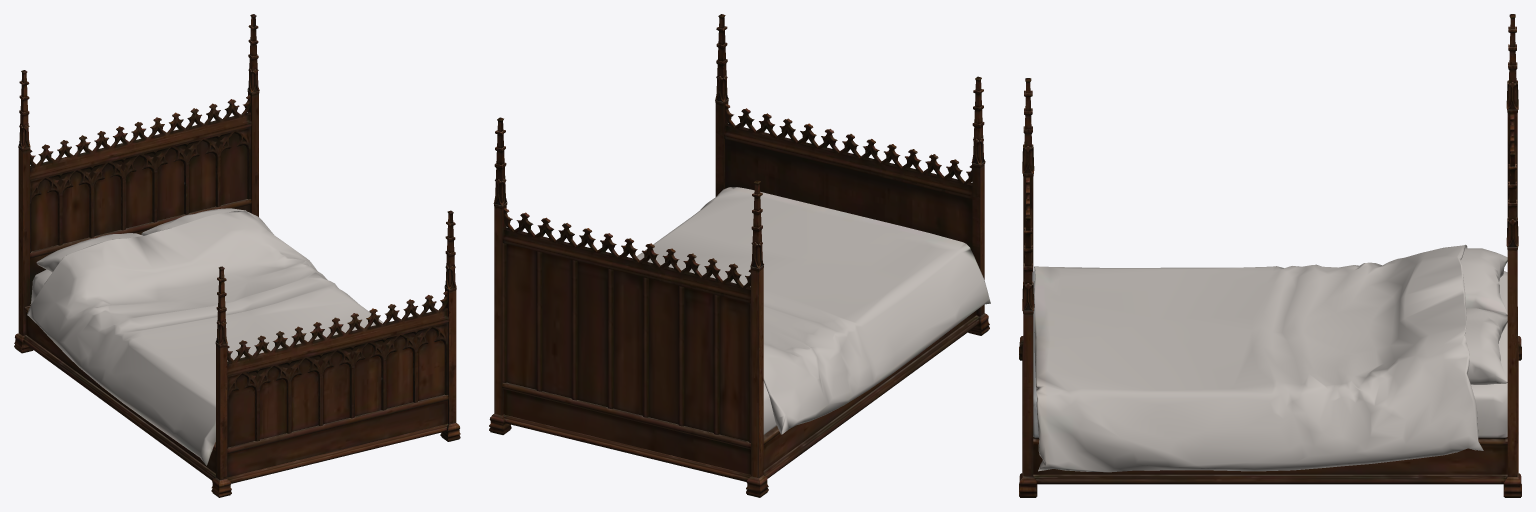
File: bed.glb
3 views of the same model, side by side, from view 1: azimuth 30°, elevation 25°; view 2: azimuth 150°, elevation 25°; view 3: azimuth 270°, elevation 25° (orthographic). The views are drawn at different scales.
Parts seen in each view (by area): view 1: GothicBed_01; view 2: GothicBed_01; view 3: GothicBed_01.
Boxes of the visible parts, x1,y1,x2,y2 form: GothicBed_01: (14,14,460,497); GothicBed_01: (489,14,990,497); GothicBed_01: (1019,14,1521,497).
Size of the model in its own units: 1.49 by 1.53 by 2.04.
1 material, 1 textured.
